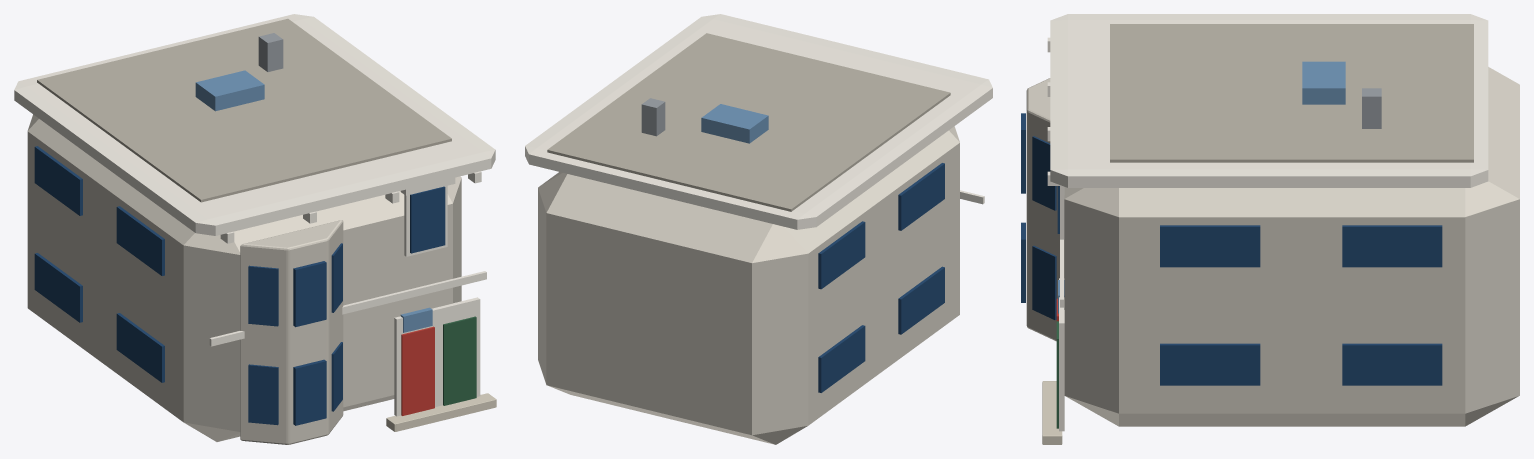
The model's file is edw_w9_f2.glb.
3 renders of one model, left to right at view 1: azimuth 30°, elevation 25°; view 2: azimuth 150°, elevation 25°; view 3: azimuth 270°, elevation 25°, orthographic. The views are drawn at different scales.
Parts seen in each view (by area): view 1: walls, roofslab, corn, bay, door, door.001, wgl, bw, bw.001, skylt, sb, sb.002 (+13 smaller); view 2: walls, roofslab, corn, skylt, sb.006, sb.002, sb.004, sb, pipe; view 3: walls, roofslab, corn, bay, sb.001, sb.003, sb.005, sb.007, skylt, bwa.001, bwa.003, lstep (+2 smaller).
Boxes of the visible parts, x1=… form: walls: x1=27, y1=114, x2=461, y2=441; roofslab: x1=37, y1=18, x2=451, y2=202; corn: x1=14, y1=14, x2=495, y2=235; bay: x1=240, y1=220, x2=343, y2=444; door: x1=401, y1=326, x2=434, y2=415; door.001: x1=443, y1=316, x2=476, y2=405; wgl: x1=410, y1=186, x2=445, y2=253; bw: x1=293, y1=359, x2=326, y2=425; bw.001: x1=293, y1=261, x2=326, y2=327; skylt: x1=195, y1=70, x2=264, y2=111; sb: x1=116, y1=313, x2=164, y2=382; sb.002: x1=34, y1=253, x2=82, y2=322; walls: x1=538, y1=126, x2=959, y2=444; roofslab: x1=547, y1=33, x2=950, y2=211; corn: x1=525, y1=14, x2=992, y2=229; skylt: x1=701, y1=104, x2=768, y2=143; sb.006: x1=818, y1=221, x2=865, y2=289; sb.002: x1=818, y1=325, x2=865, y2=392; sb.004: x1=898, y1=163, x2=944, y2=230; sb: x1=898, y1=266, x2=944, y2=334; pipe: x1=641, y1=98, x2=665, y2=136; walls: x1=1064, y1=67, x2=1519, y2=426; roofslab: x1=1110, y1=24, x2=1473, y2=162; corn: x1=1050, y1=14, x2=1488, y2=187; bay: x1=1026, y1=78, x2=1064, y2=341; sb.001: x1=1160, y1=343, x2=1260, y2=385; sb.003: x1=1342, y1=343, x2=1442, y2=385; sb.005: x1=1160, y1=225, x2=1260, y2=267; sb.007: x1=1342, y1=225, x2=1442, y2=267; skylt: x1=1302, y1=61, x2=1345, y2=104; bwa.001: x1=1032, y1=245, x2=1056, y2=319; bwa.003: x1=1032, y1=136, x2=1056, y2=210; lstep: x1=1042, y1=381, x2=1062, y2=444.
Bounding box in the file's own units: 9.7 × 8.65 × 12.59.
